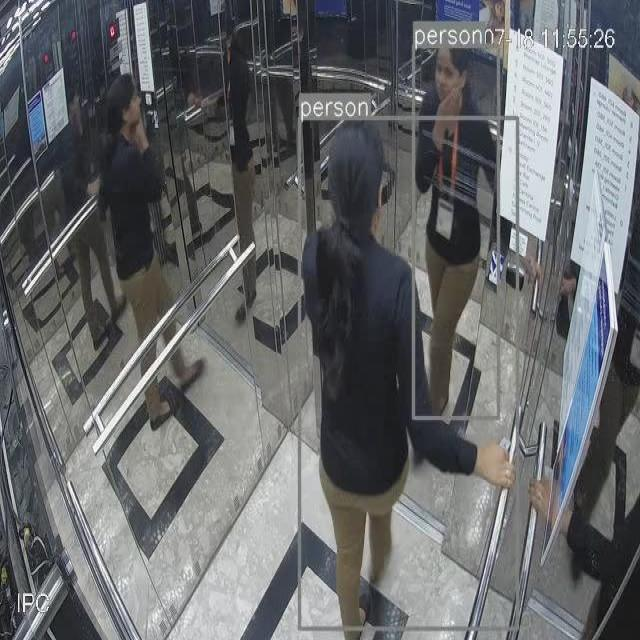person: (302, 119, 517, 628), (101, 73, 193, 431), (415, 49, 500, 416)
